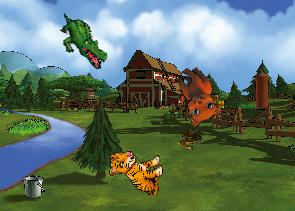bear: (161, 61, 229, 131)
crocodile: (48, 11, 117, 71)
tiger: (109, 150, 163, 195)
